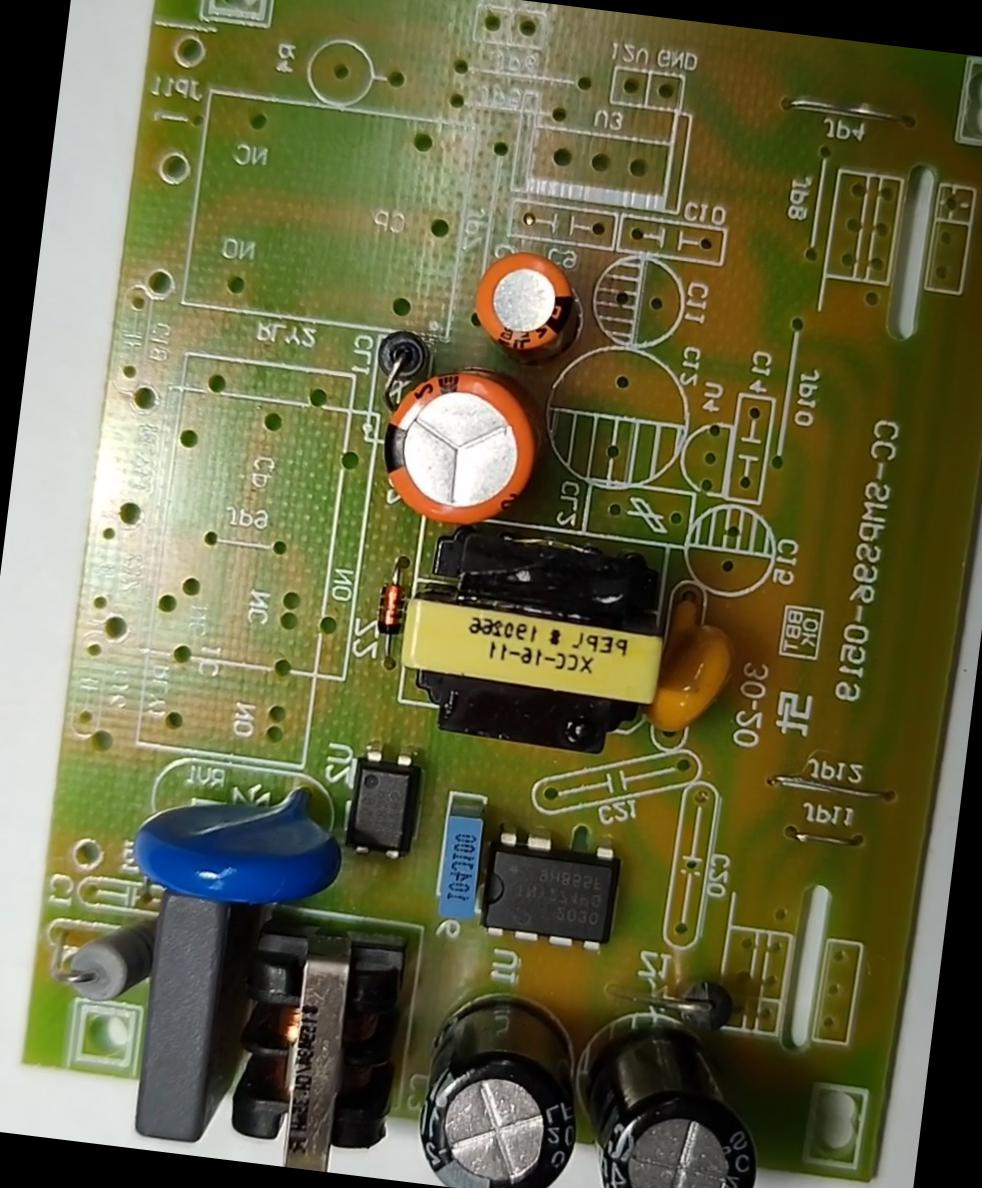Cap1: (372, 362, 542, 534)
Cap2: (467, 250, 574, 354)
Cap3: (404, 986, 592, 1187)
Cap4: (565, 1005, 772, 1187)
MOSFET: (478, 828, 624, 953)
Mov: (127, 768, 346, 919)
Resistor: (59, 898, 160, 1010)
Transformer: (398, 516, 677, 758), (211, 906, 414, 1178)
